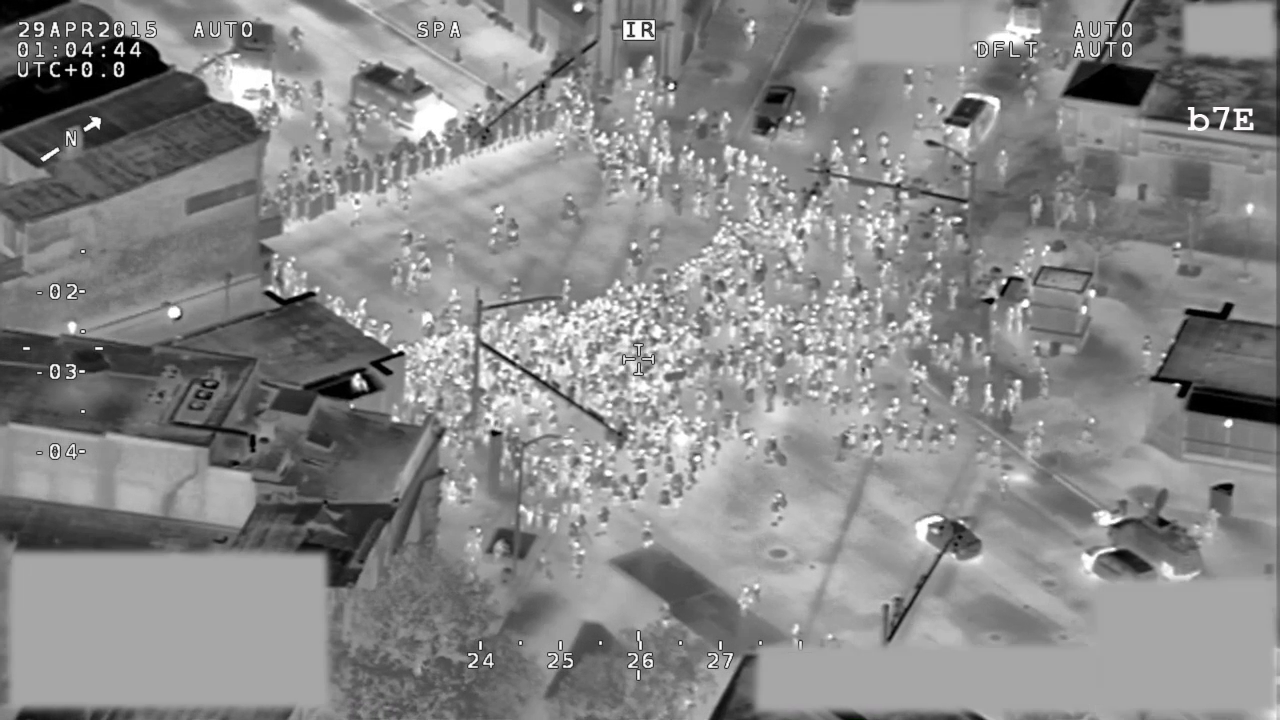vehicle: (346, 57, 461, 145), (1106, 484, 1204, 581), (910, 507, 988, 566), (229, 20, 276, 117), (941, 91, 1004, 156), (1078, 541, 1156, 580), (749, 82, 796, 142)
